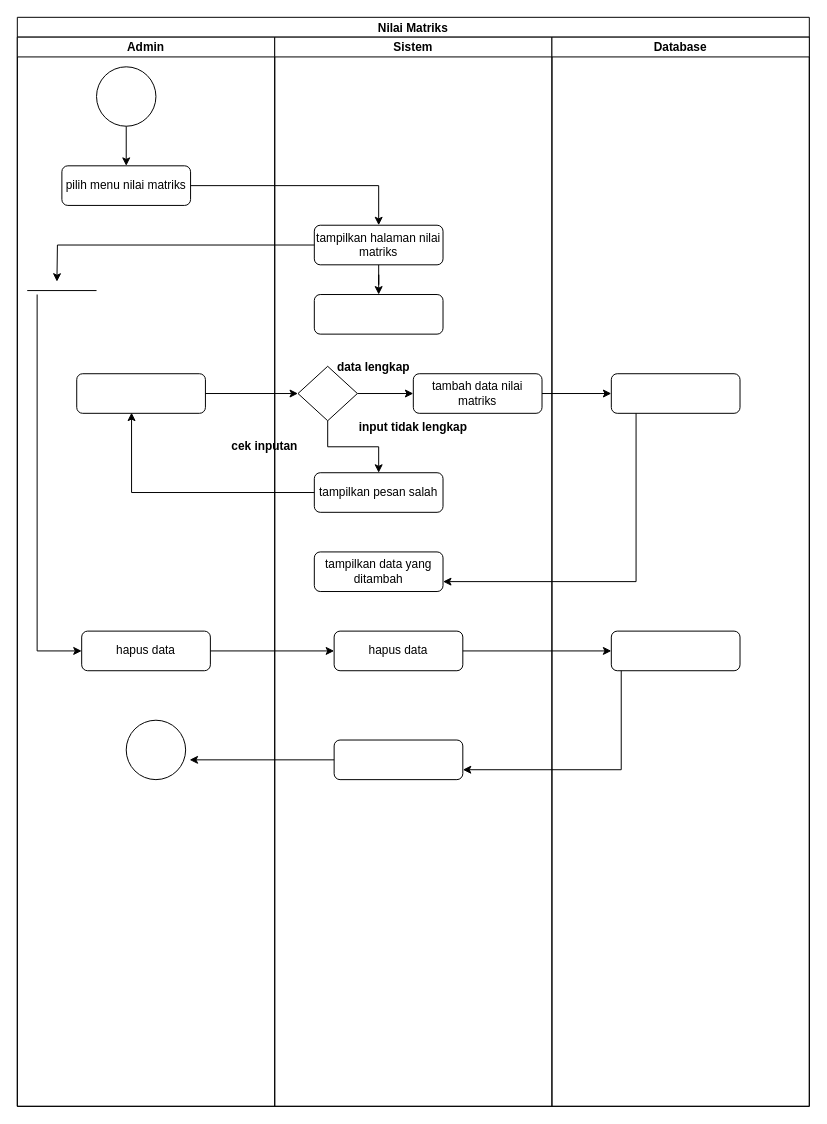
Some shapes in this 827 by 1124 pixel diagram are drawn without their labels. The shapes that lost their labels are listed below. From the top down, each one's centre as x and y in pixels, then its label:
the point at 378,314: menampilkan data nilai matriks
the point at 140,393: tambah data
the point at 675,393: data tersimpan di database
the point at 675,650: data terhapus
the point at 398,759: beranda admin
